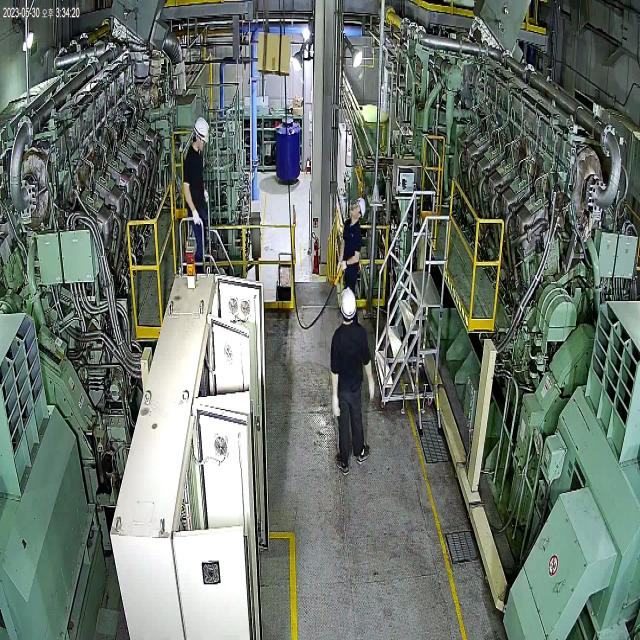Water Tank: (273, 108, 304, 190)
worker: (326, 278, 380, 476), (178, 108, 218, 274), (335, 189, 373, 297)
